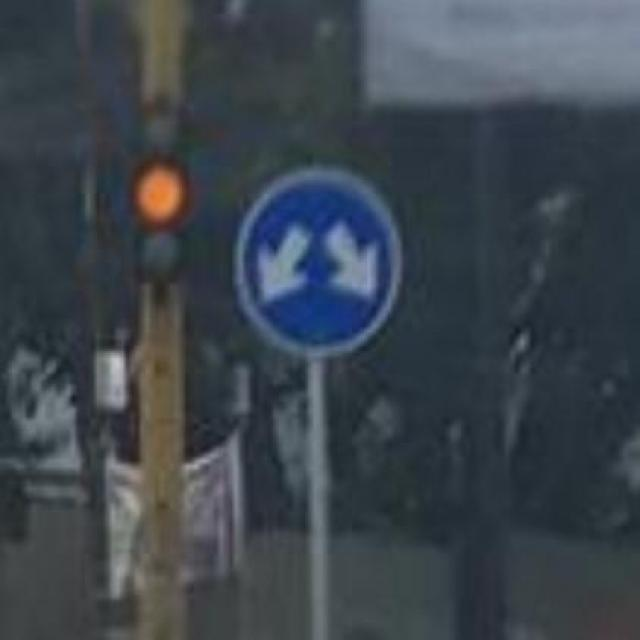traffic sign: (232, 163, 402, 358)
